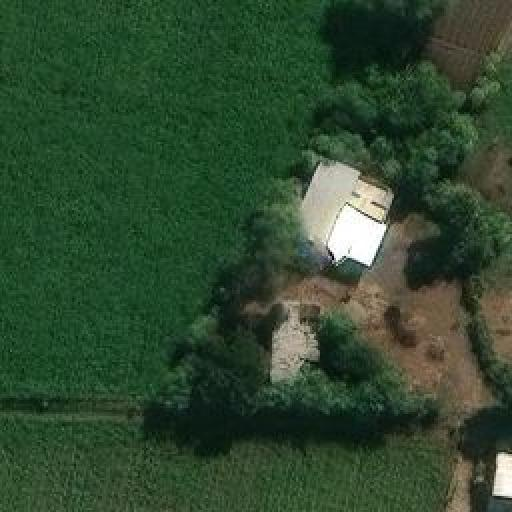manzanas: (265, 148, 400, 392)
